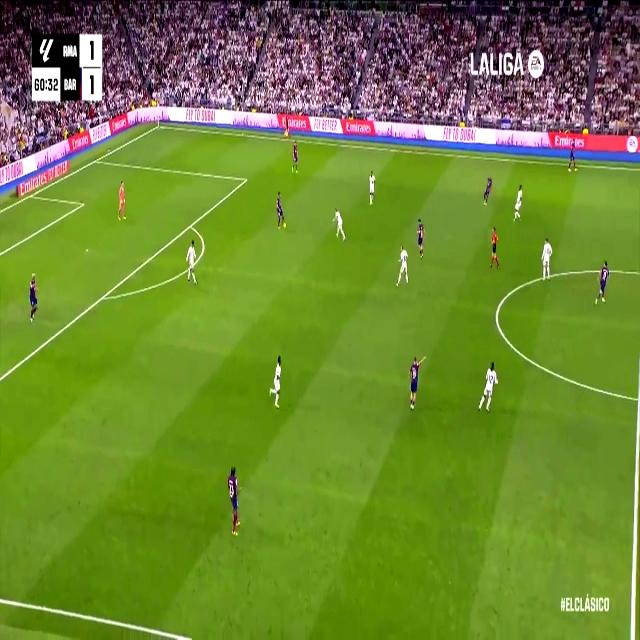bigarea_top_inner: (242, 171, 248, 186)
bigarea_top_outter: (93, 154, 99, 165)
bottom_arc_area_intersection: (99, 288, 108, 306)
corner: (155, 122, 162, 130)
halfcircle_bottom: (633, 383, 640, 412)
smallarea_top_inner: (80, 199, 85, 208)
top_arc_area_intersection: (188, 218, 195, 232)
